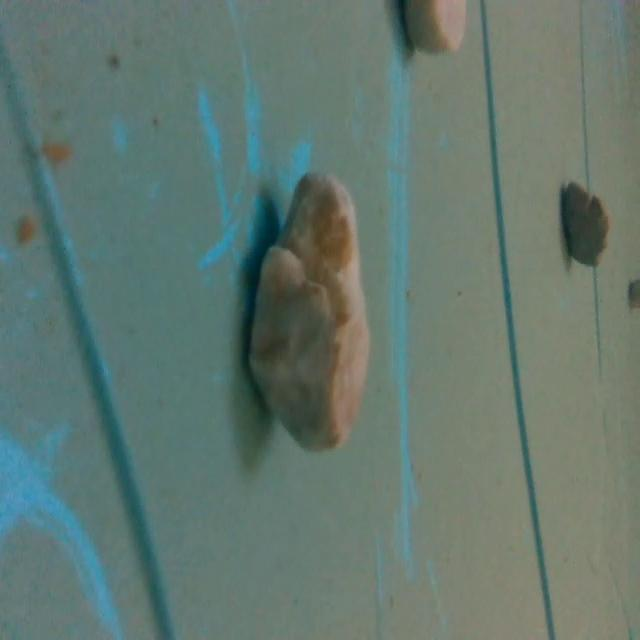rock: (245, 162, 380, 466), (549, 176, 617, 268)
